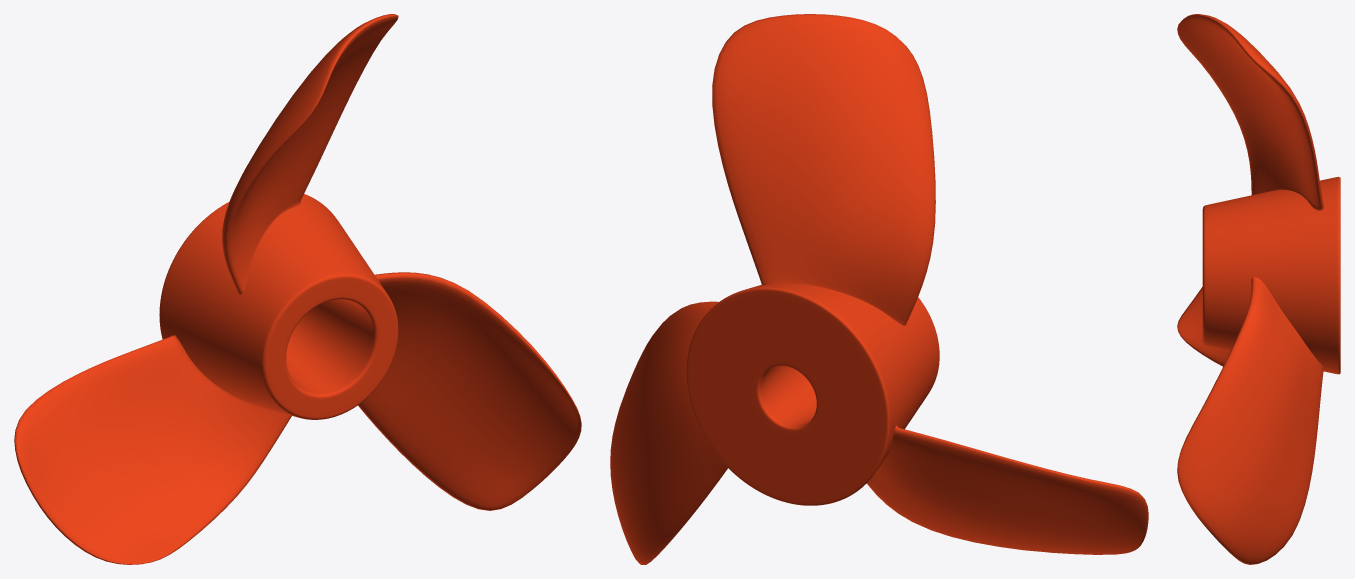
File: prof_front_3.fbx
3 renders of one model, left to right at view 1: azimuth 30°, elevation 25°; view 2: azimuth 150°, elevation 25°; view 3: azimuth 270°, elevation 25°, orthographic. The views are drawn at different scales.
Parts seen in each view (by area): view 1: 원형.002; view 2: 원형.002; view 3: 원형.002.
Part boxes in pixels (x1,y1,x2,y2): 원형.002: (14, 14, 581, 564); 원형.002: (610, 14, 1148, 564); 원형.002: (1177, 14, 1340, 564).
Bounding box in the file's own units: 545 × 526 × 163.
